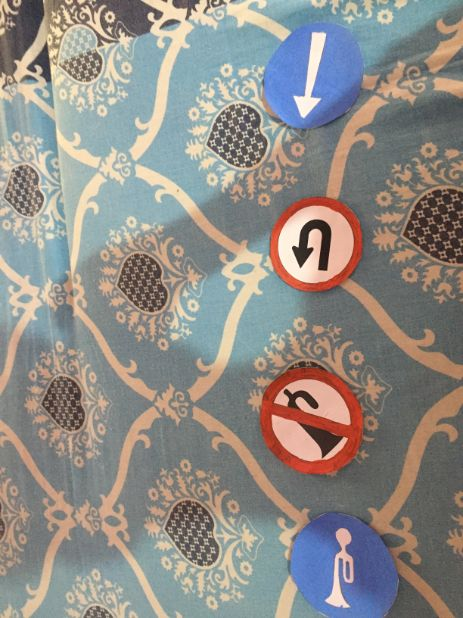blow-horn: (287, 508, 395, 617)
keep-left: (262, 21, 373, 132)
no-horn: (257, 364, 372, 479)
u-turn: (266, 194, 366, 294)
